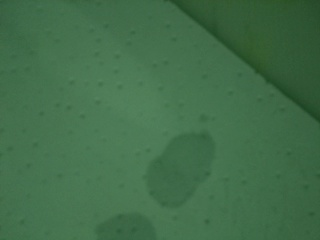Water_detected: (106, 139, 203, 240)
